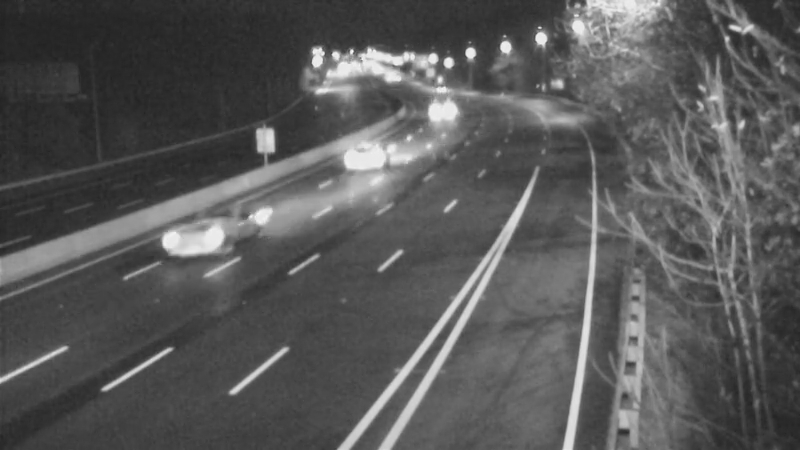vehicle: (327, 120, 407, 200), (161, 201, 241, 281), (411, 61, 461, 111), (412, 81, 462, 131)
